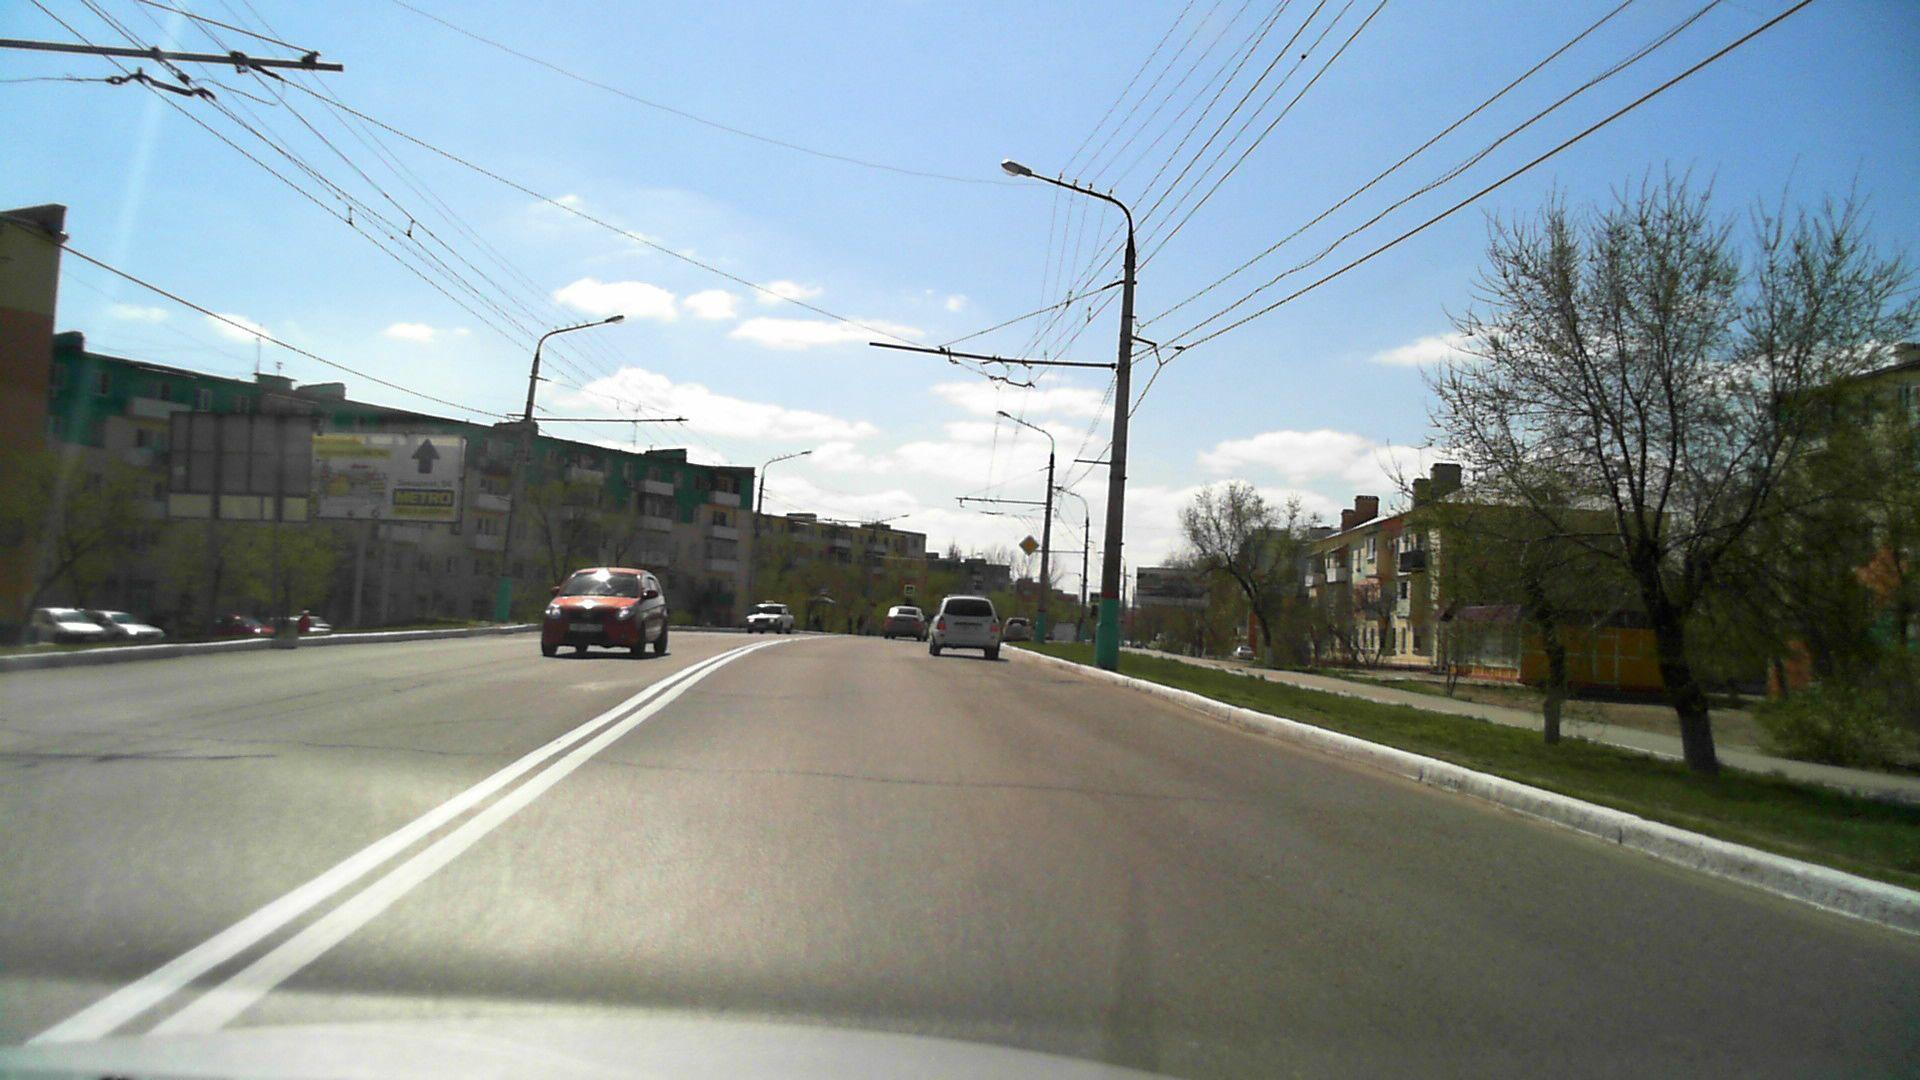2_1: (1017, 535, 1040, 555)
5_19_1: (1091, 591, 1099, 603)
5_19_2: (905, 584, 913, 593)
